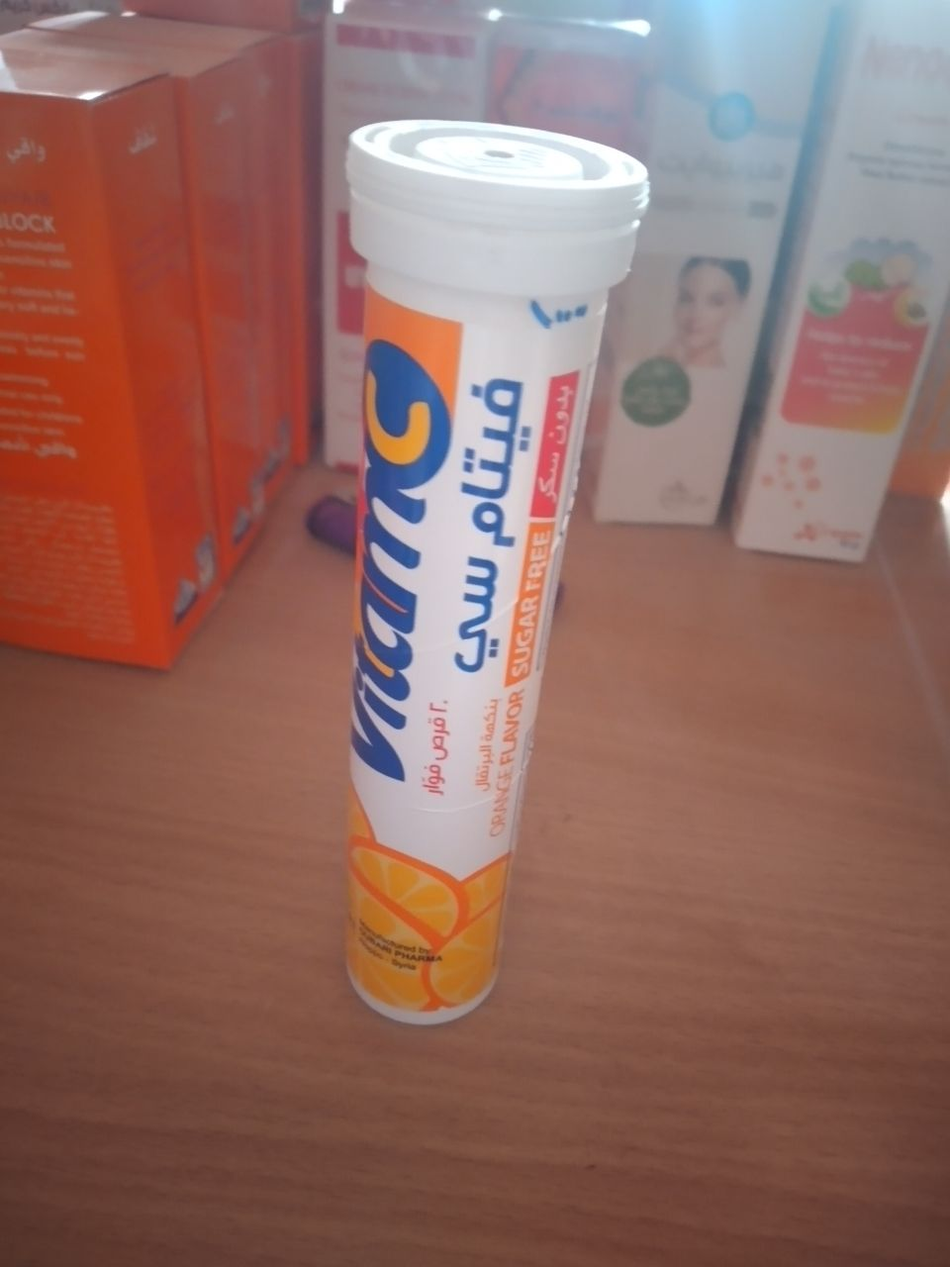Medicine: (300, 112, 656, 1029), (0, 40, 218, 696), (577, 0, 841, 538), (739, 20, 950, 554), (172, 33, 290, 581)
